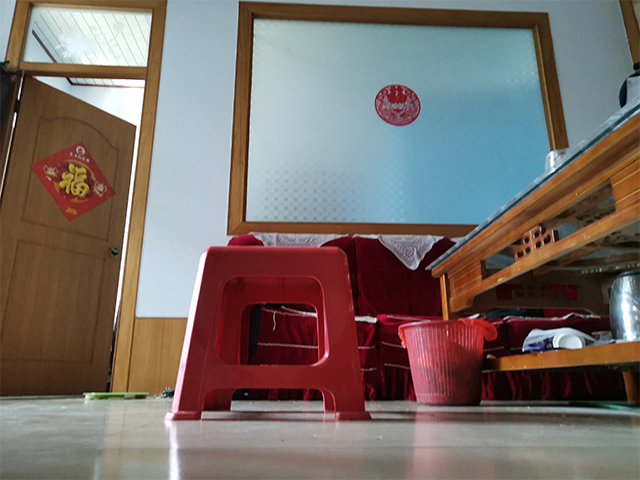sofa: (226, 230, 459, 403)
stool: (162, 243, 374, 421)
table: (422, 93, 640, 407)
trashcan: (396, 316, 487, 407)
